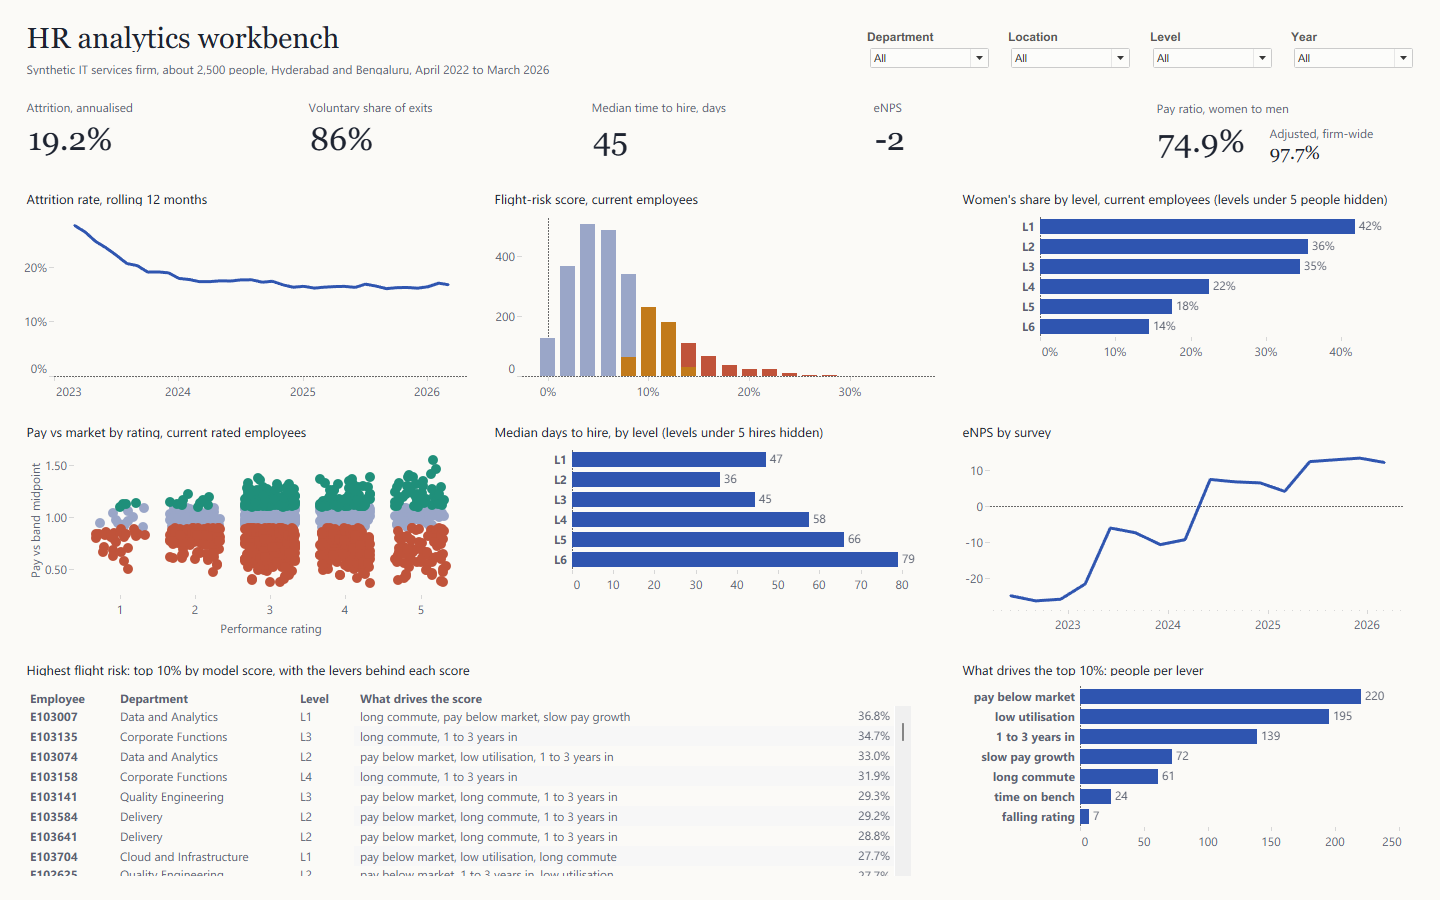

What the dashboard file says about the page in this screenshot:
{"tool":"tableau","page":{"name":"Workbench","canvas":[1440,900],"ordinal":0},"visuals":[{"type":"text","box":[24,14,800,36]},{"type":"parameter","param":"[Parameters].[Parameter 1]","box":[860,20,132,56]},{"type":"parameter","param":"[Parameters].[Parameter 2]","box":[1000,20,132,56]},{"type":"parameter","param":"[Parameters].[Parameter 3]","box":[1140,20,132,56]},{"type":"parameter","param":"[Parameters].[Parameter 4]","box":[1280,20,132,56]},{"type":"text","box":[24,52,800,22]},{"type":"text","box":[24,92,260,22]},{"type":"text","box":[304,92,260,22]},{"type":"text","box":[584,92,260,22]},{"type":"text","box":[864,92,260,22]},{"type":"text","box":[1144,92,260,22]},{"type":"worksheet","title":"KPI attrition","mark":"Text","box":[24,112,260,56]},{"type":"worksheet","title":"KPI voluntary","mark":"Text","box":[304,112,260,56]},{"type":"worksheet","title":"KPI time to hire","mark":"Text","box":[584,112,260,56]},{"type":"worksheet","title":"KPI eNPS","mark":"Text","box":[864,112,260,56]},{"type":"worksheet","title":"KPI pay ratio","mark":"Text","box":[1144,112,112,56]},{"type":"text","box":[1256,116,148,48]},{"type":"text","box":[24,184,448,22]},{"type":"text","box":[488,184,448,22]},{"type":"text","box":[952,184,448,22]},{"type":"worksheet","title":"Attrition trend","mark":"Line","rows":["Calc_Attrition12"],"cols":["date"],"box":[24,208,448,200]},{"type":"worksheet","title":"Flight risk","mark":"Bar","rows":["Calc_Employees"],"cols":["Calc_RiskBin"],"box":[488,208,448,200]},{"type":"worksheet","title":"Women by level","mark":"Bar","rows":["level"],"cols":["Calc_WomenShare"],"box":[952,208,448,200]},{"type":"text","box":[24,420,448,22]},{"type":"text","box":[488,420,448,22]},{"type":"text","box":[952,420,448,22]},{"type":"worksheet","title":"Pay vs rating","mark":"Circle","rows":["compa_ratio"],"cols":["Calc_RatingJitter"],"box":[24,444,448,200]},{"type":"worksheet","title":"Time to hire","mark":"Bar","rows":["level"],"cols":["Calc_TimeToHireByLevel"],"box":[488,444,448,200]},{"type":"worksheet","title":"eNPS trend","mark":"Line","rows":["Calc_eNPS"],"cols":["date"],"box":[952,444,448,200]},{"type":"text","box":[24,660,912,22]},{"type":"text","box":[952,660,448,22]},{"type":"worksheet","title":"At-risk employees","mark":"Text","rows":["emp_id","department","level","drivers"],"box":[24,684,912,200]},{"type":"worksheet","title":"Risk levers","mark":"Bar","rows":["drivers"],"cols":["Calc_LeverPeople"],"box":[952,684,448,200]}]}

Visuals, with their boxes in screenshot pixels (x1, y1, x2, y2), scaled from the page's 1440x900 canvas onto the 1440x900 screenshot:
text: crop(24, 14, 824, 50)
parameter: crop(860, 20, 992, 76)
parameter: crop(1000, 20, 1132, 76)
parameter: crop(1140, 20, 1272, 76)
parameter: crop(1280, 20, 1412, 76)
text: crop(24, 52, 824, 74)
text: crop(24, 92, 284, 114)
text: crop(304, 92, 564, 114)
text: crop(584, 92, 844, 114)
text: crop(864, 92, 1124, 114)
text: crop(1144, 92, 1404, 114)
"KPI attrition" worksheet (Text marks): crop(24, 112, 284, 168)
"KPI voluntary" worksheet (Text marks): crop(304, 112, 564, 168)
"KPI time to hire" worksheet (Text marks): crop(584, 112, 844, 168)
"KPI eNPS" worksheet (Text marks): crop(864, 112, 1124, 168)
"KPI pay ratio" worksheet (Text marks): crop(1144, 112, 1256, 168)
text: crop(1256, 116, 1404, 164)
text: crop(24, 184, 472, 206)
text: crop(488, 184, 936, 206)
text: crop(952, 184, 1400, 206)
"Attrition trend" worksheet (Line marks): crop(24, 208, 472, 408)
"Flight risk" worksheet (Bar marks): crop(488, 208, 936, 408)
"Women by level" worksheet (Bar marks): crop(952, 208, 1400, 408)
text: crop(24, 420, 472, 442)
text: crop(488, 420, 936, 442)
text: crop(952, 420, 1400, 442)
"Pay vs rating" worksheet (Circle marks): crop(24, 444, 472, 644)
"Time to hire" worksheet (Bar marks): crop(488, 444, 936, 644)
"eNPS trend" worksheet (Line marks): crop(952, 444, 1400, 644)
text: crop(24, 660, 936, 682)
text: crop(952, 660, 1400, 682)
"At-risk employees" worksheet (Text marks): crop(24, 684, 936, 884)
"Risk levers" worksheet (Bar marks): crop(952, 684, 1400, 884)
